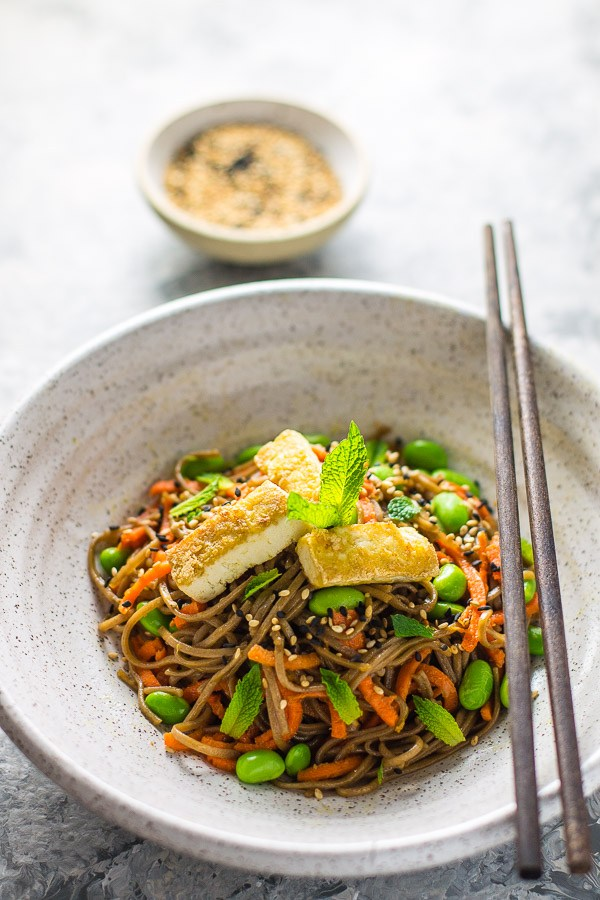Soba: (92, 433, 553, 815)
